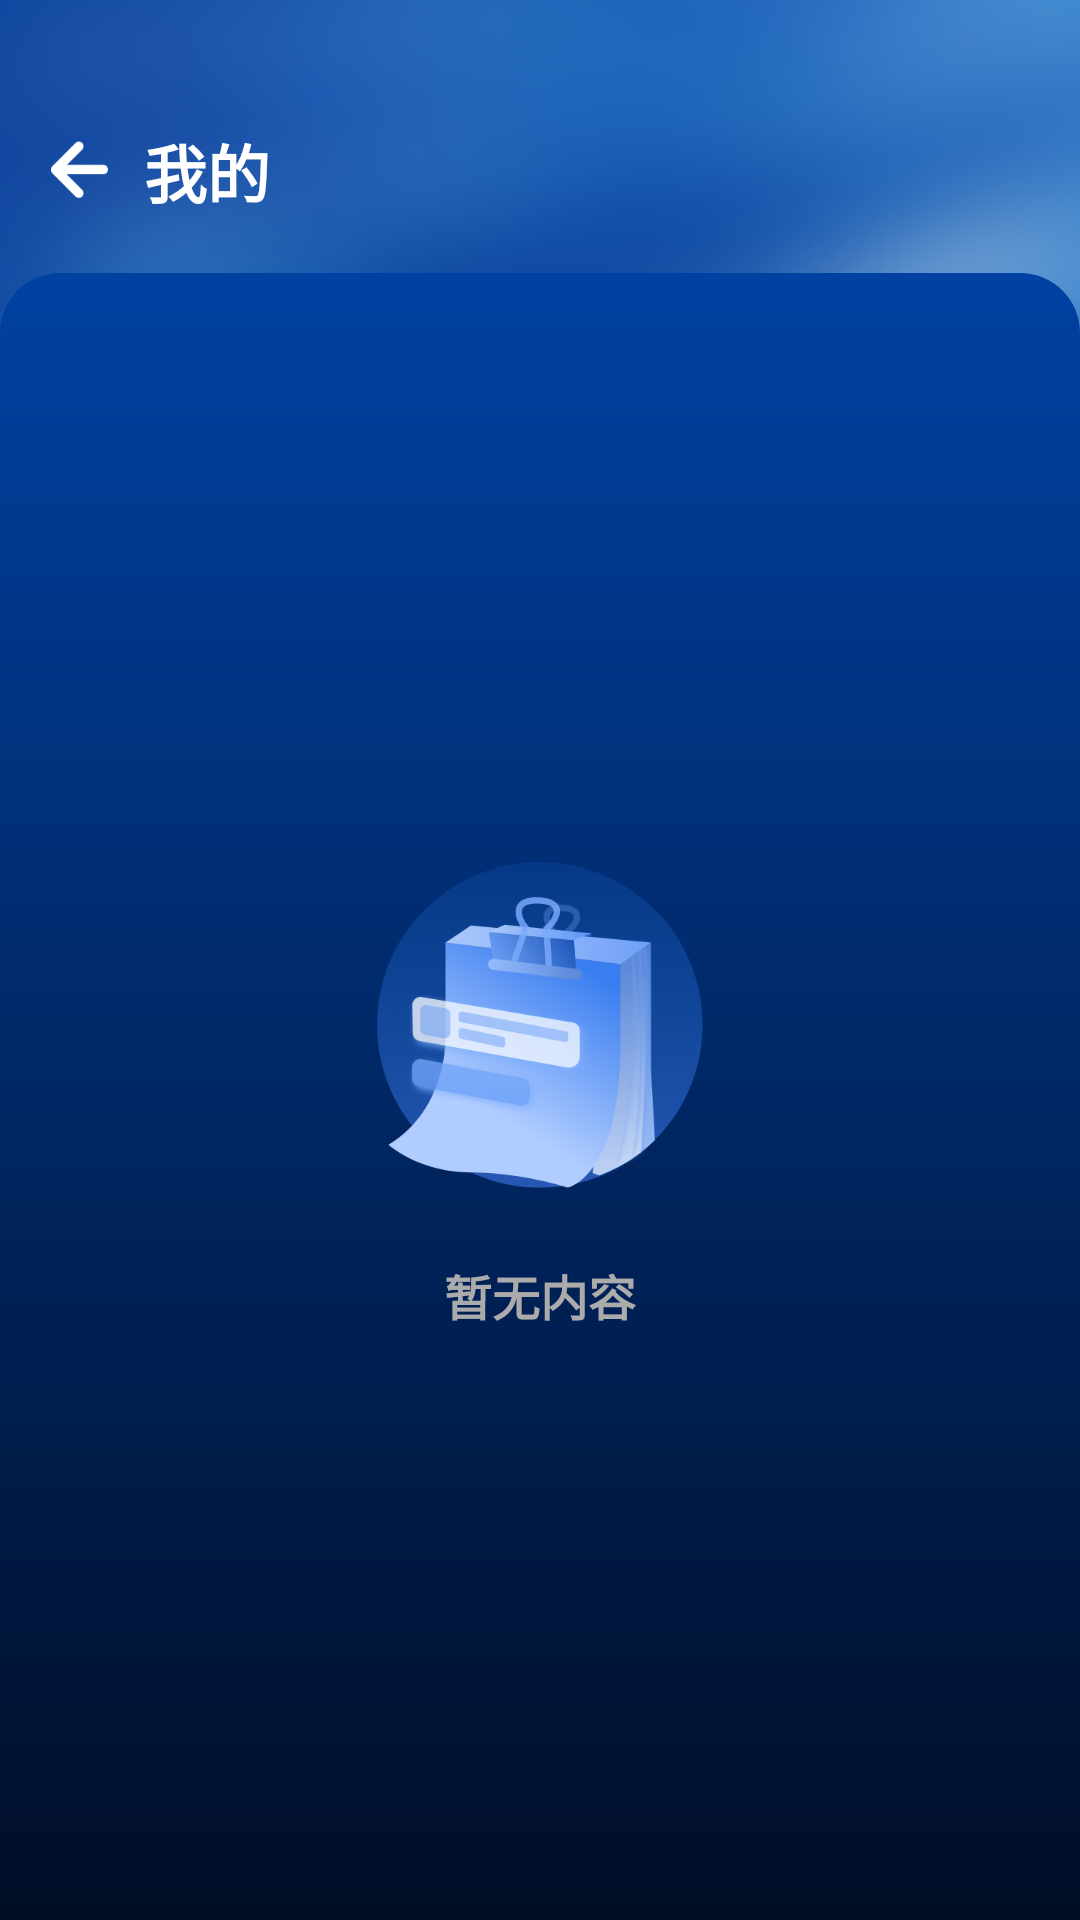

Where to tap for icons on this 1080*1920 app screen, as (x,y):
back: (79,169)
